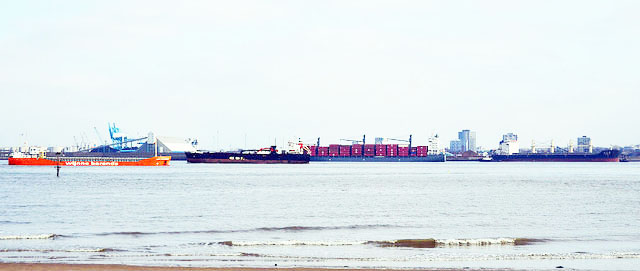bulk carrier: (491, 136, 627, 161)
container_ship: (310, 140, 446, 159)
tanker: (6, 141, 172, 168), (184, 140, 308, 166)
